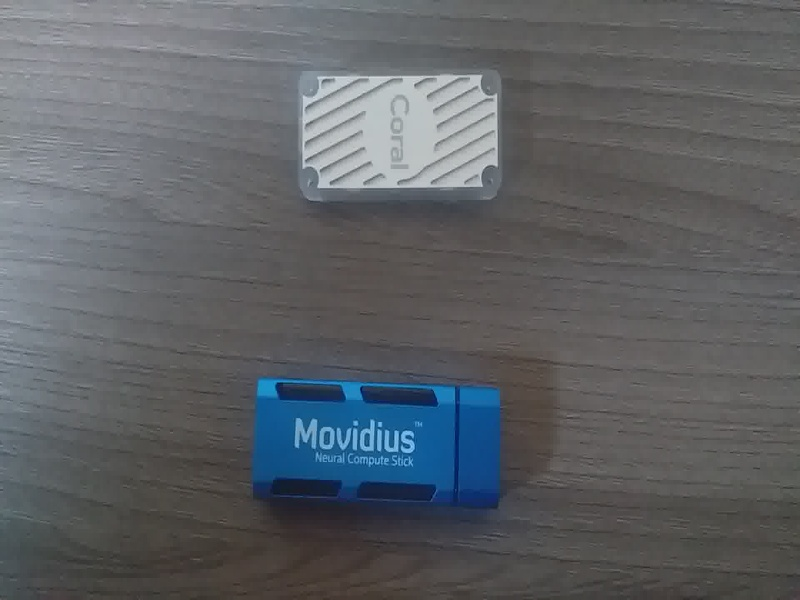coral: (287, 65, 518, 212)
movidius: (244, 369, 512, 521)
